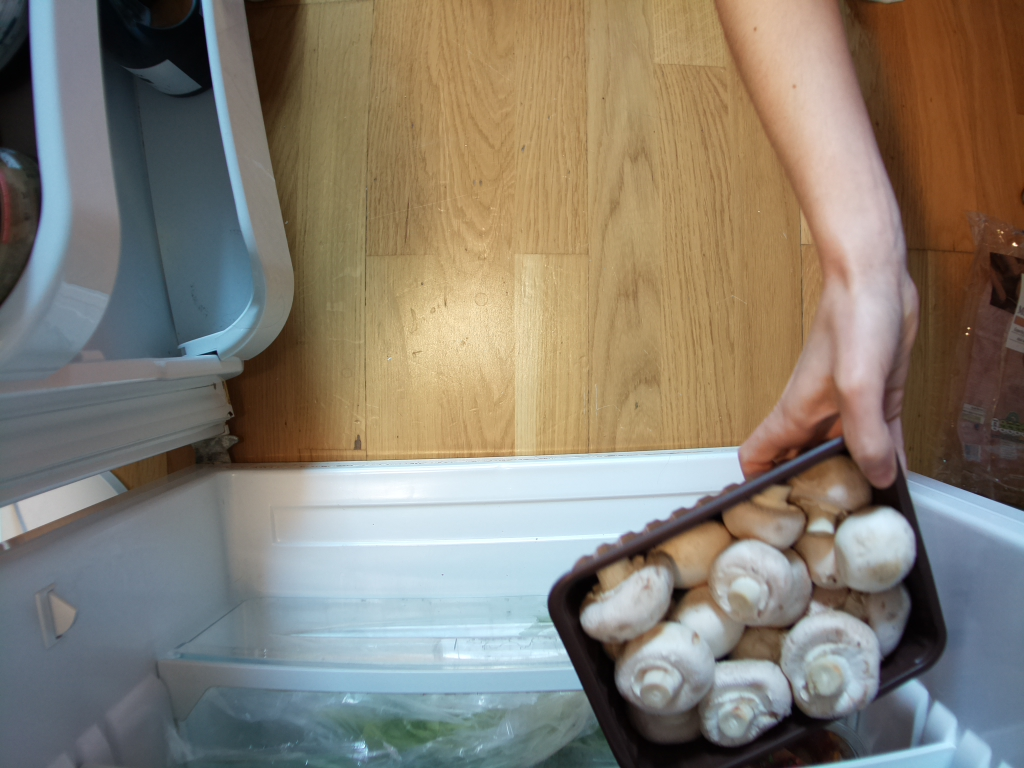mushrooms: (548, 418, 957, 768)
